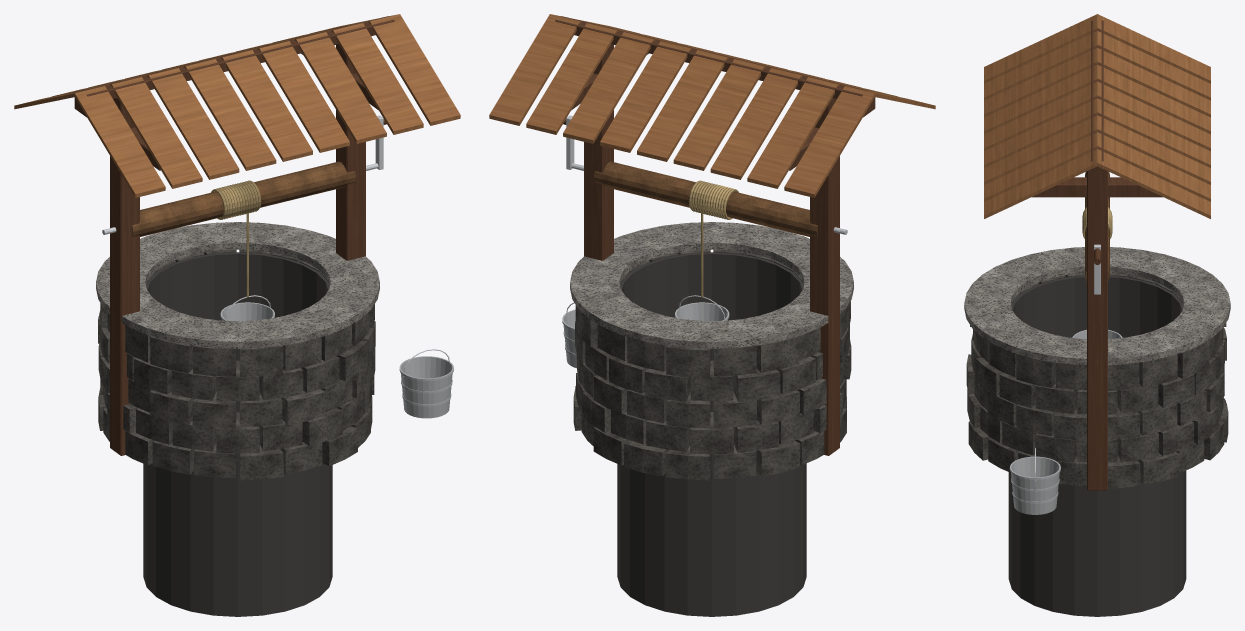
File: poco_sarilho.glb
3 renders of one model, left to right at view 1: azimuth 30°, elevation 25°; view 2: azimuth 150°, elevation 25°; view 3: azimuth 270°, elevation 25°, orthographic. The views are drawn at different scales.
Visible parts, largest first — view 1: poco_sarilho_madeira, poco_sarilho_fuligem, poco_sarilho_pedra_poco, poco_sarilho_concreto, poco_sarilho_madeira_escura, poco_sarilho_sarilho_madeira_lenha, poco_sarilho_balde_zinco, poco_sarilho_sarilho_corda; view 2: poco_sarilho_madeira, poco_sarilho_fuligem, poco_sarilho_pedra_poco, poco_sarilho_concreto, poco_sarilho_madeira_escura, poco_sarilho_sarilho_madeira_lenha, poco_sarilho_balde_zinco, poco_sarilho_sarilho_corda; view 3: poco_sarilho_madeira, poco_sarilho_pedra_poco, poco_sarilho_fuligem, poco_sarilho_concreto, poco_sarilho_madeira_escura, poco_sarilho_balde_zinco.
Boxes of the visible parts, bbox=[...] form: poco_sarilho_madeira: bbox=[14, 14, 460, 197]; poco_sarilho_fuligem: bbox=[143, 252, 332, 616]; poco_sarilho_pedra_poco: bbox=[98, 249, 375, 480]; poco_sarilho_concreto: bbox=[96, 222, 379, 348]; poco_sarilho_madeira_escura: bbox=[74, 16, 394, 455]; poco_sarilho_sarilho_madeira_lenha: bbox=[132, 161, 355, 236]; poco_sarilho_balde_zinco: bbox=[220, 302, 453, 418]; poco_sarilho_sarilho_corda: bbox=[211, 180, 261, 219]; poco_sarilho_madeira: bbox=[489, 14, 935, 197]; poco_sarilho_fuligem: bbox=[617, 252, 806, 616]; poco_sarilho_pedra_poco: bbox=[573, 249, 851, 480]; poco_sarilho_concreto: bbox=[570, 222, 853, 348]; poco_sarilho_madeira_escura: bbox=[555, 16, 875, 455]; poco_sarilho_sarilho_madeira_lenha: bbox=[594, 161, 817, 236]; poco_sarilho_balde_zinco: bbox=[562, 302, 729, 368]; poco_sarilho_sarilho_corda: bbox=[688, 180, 738, 219]; poco_sarilho_madeira: bbox=[984, 14, 1210, 218]; poco_sarilho_pedra_poco: bbox=[966, 273, 1228, 488]; poco_sarilho_fuligem: bbox=[1008, 276, 1186, 616]; poco_sarilho_concreto: bbox=[964, 247, 1230, 365]; poco_sarilho_madeira_escura: bbox=[1032, 20, 1162, 490]; poco_sarilho_balde_zinco: bbox=[1009, 329, 1122, 514].
Bounding box in the file's own units: 2.09 × 3.05 × 1.5.
Materials: 10 (6 with a texture image).
